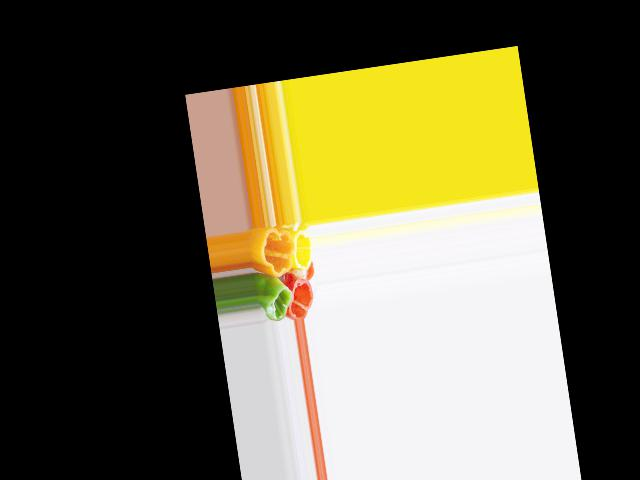bell_pepper: (285, 276, 317, 318)
